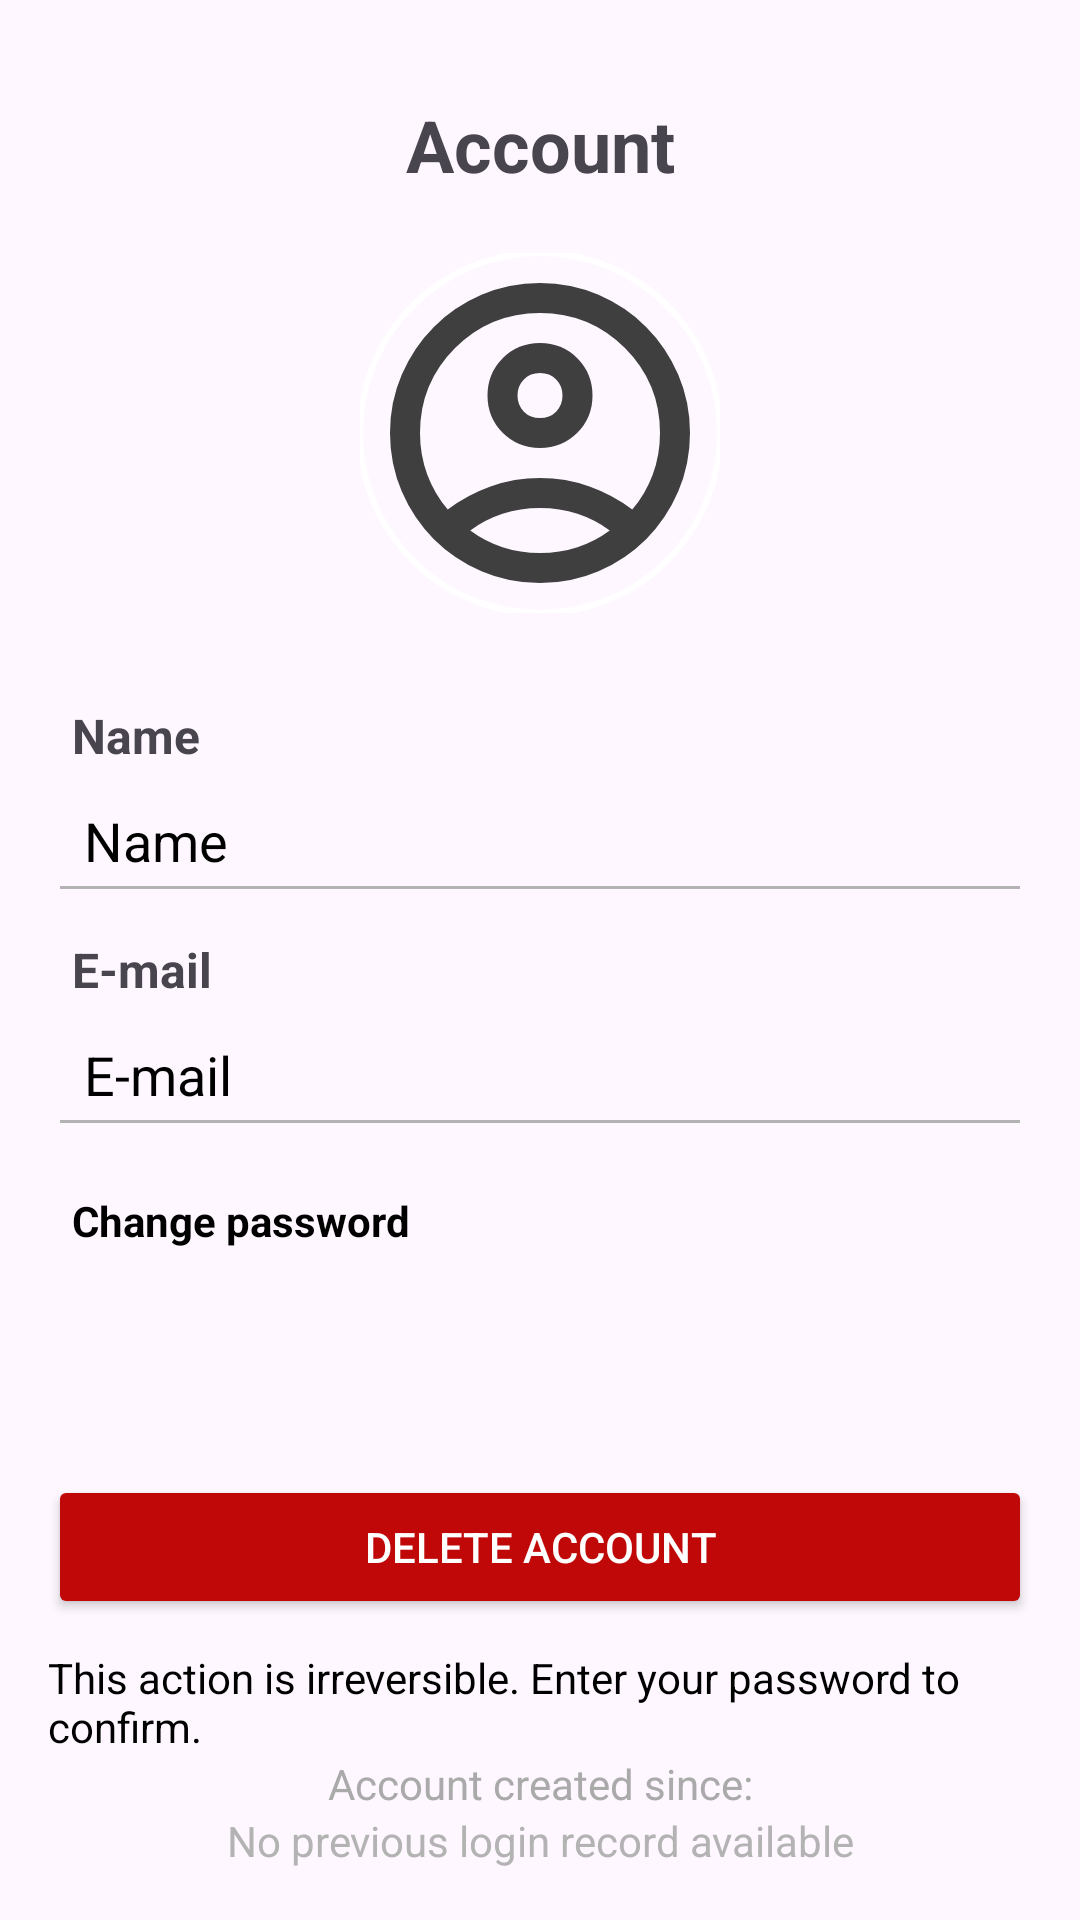

Point at icon controls on the screen. Image size 1080px x 1920px, points as [x,y].
Profile Picture: [540,433]
